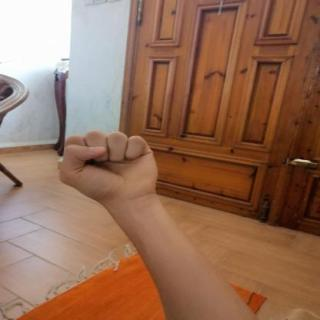SAD: (46, 124, 172, 211)
